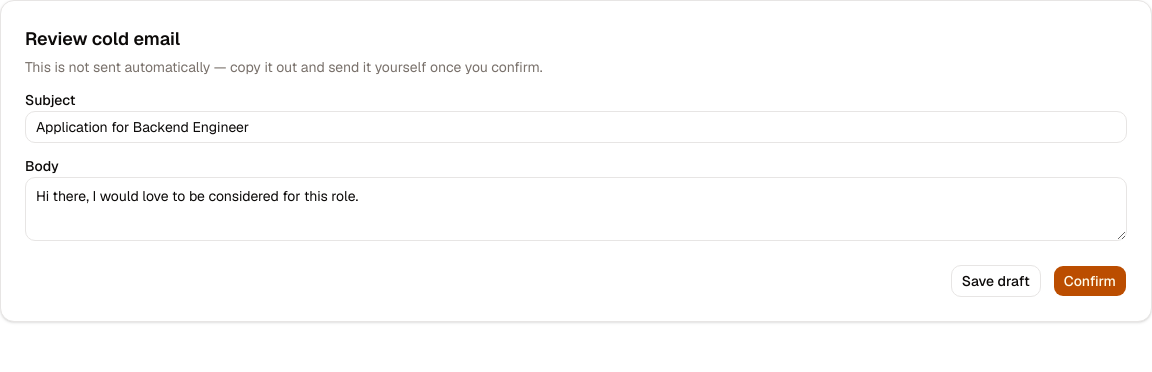
Test case: EmailReviewGate › shows the error message when saving the draft fails
The width and height of the screenshot is (1152, 372).
Click the button "Save draft" at (996, 281), box x1=951 y1=265 x2=1041 y2=297
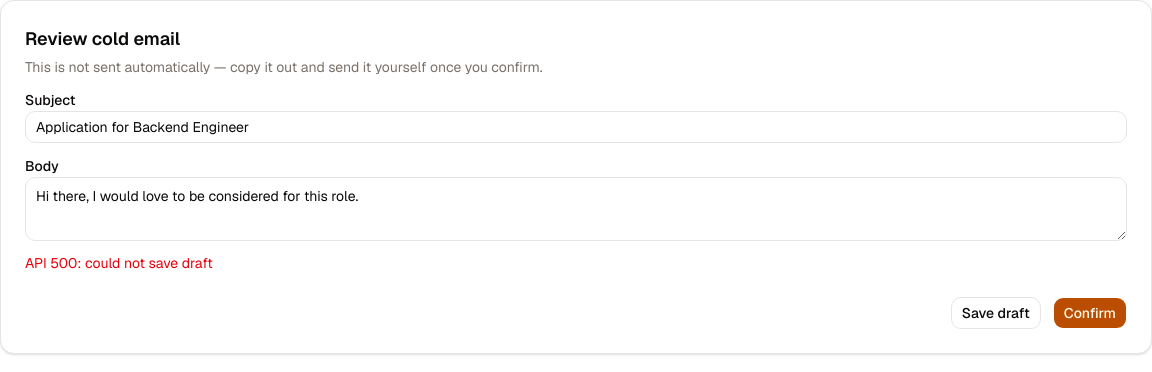
Check: the text "API 500: could not save draft" is shown, box x1=25 y1=254 x2=213 y2=272
